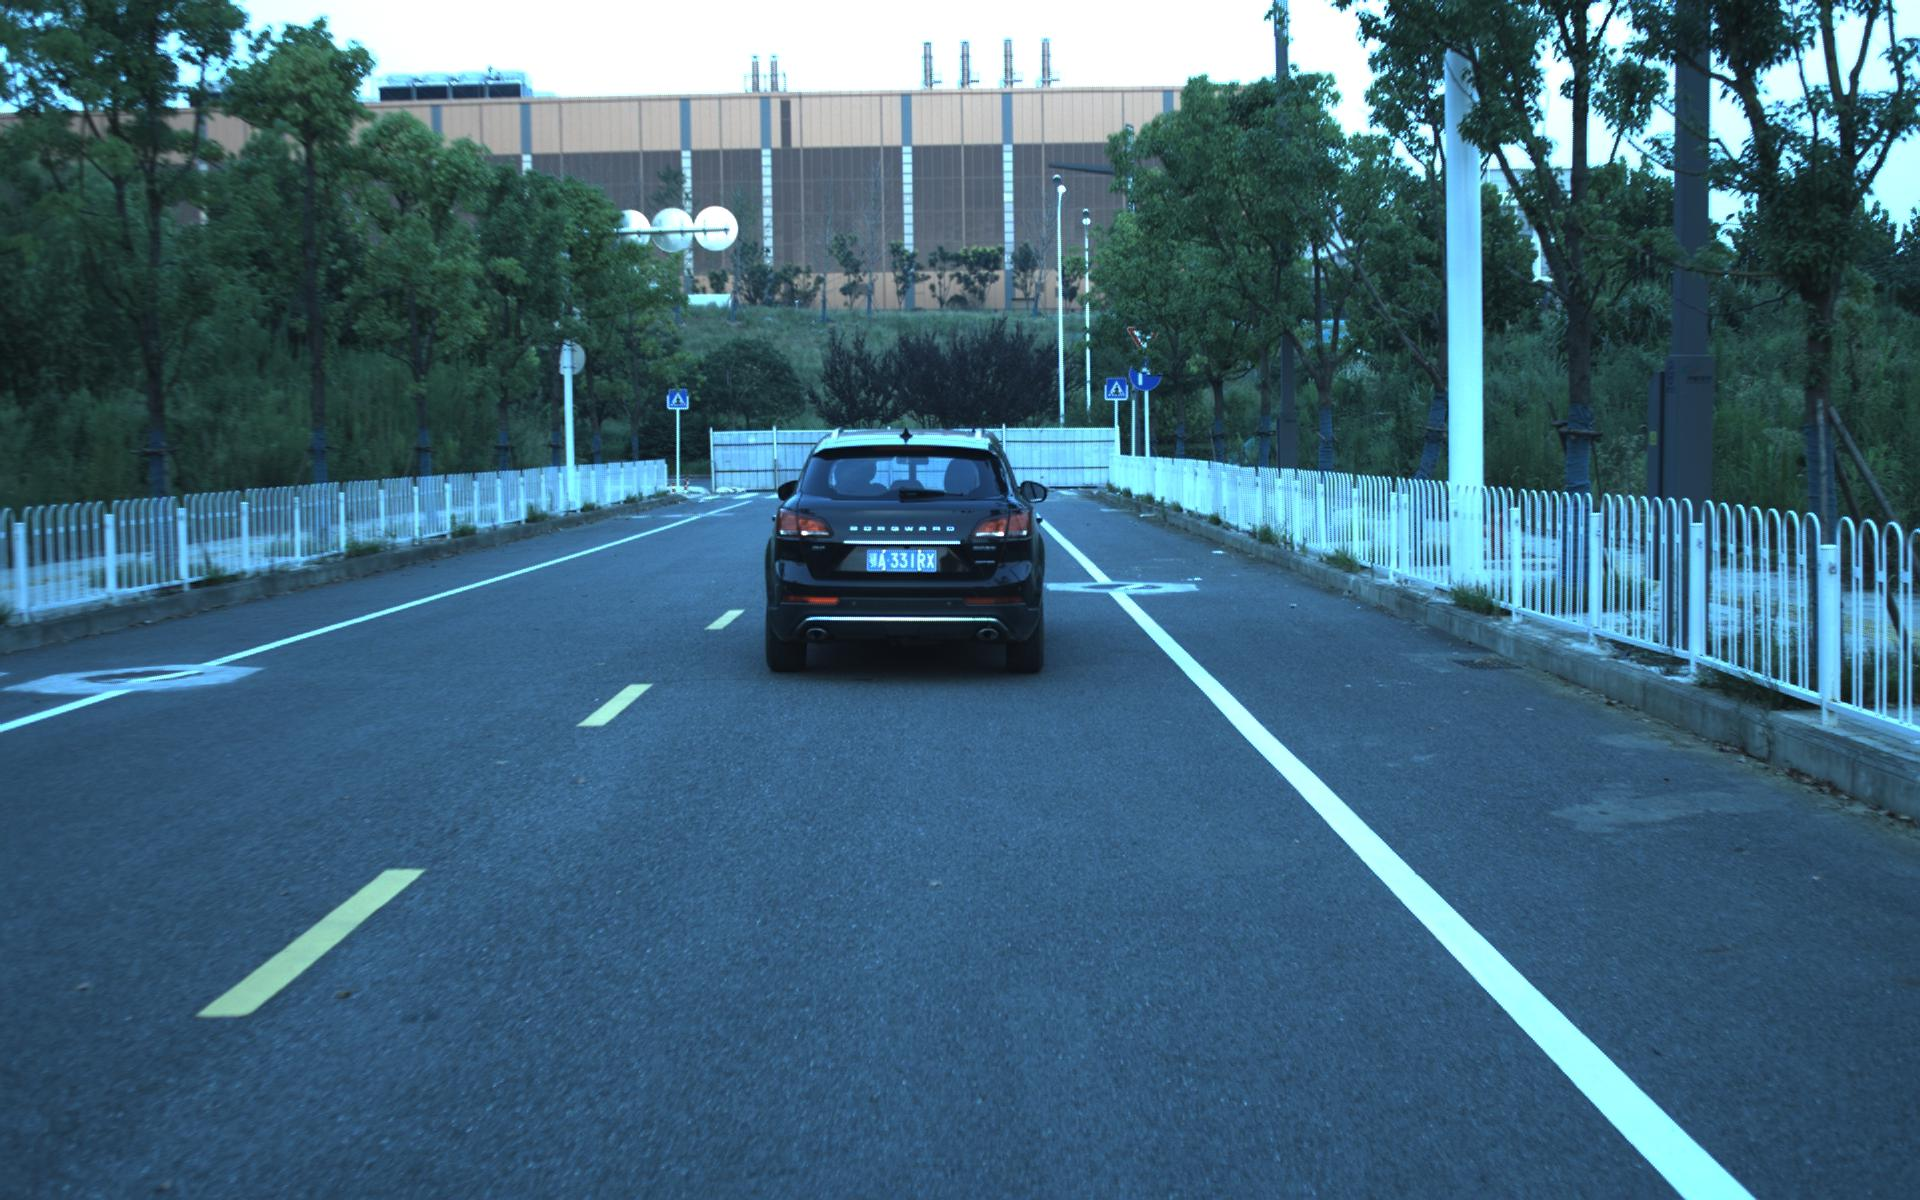Car: (762, 422, 1048, 675)
